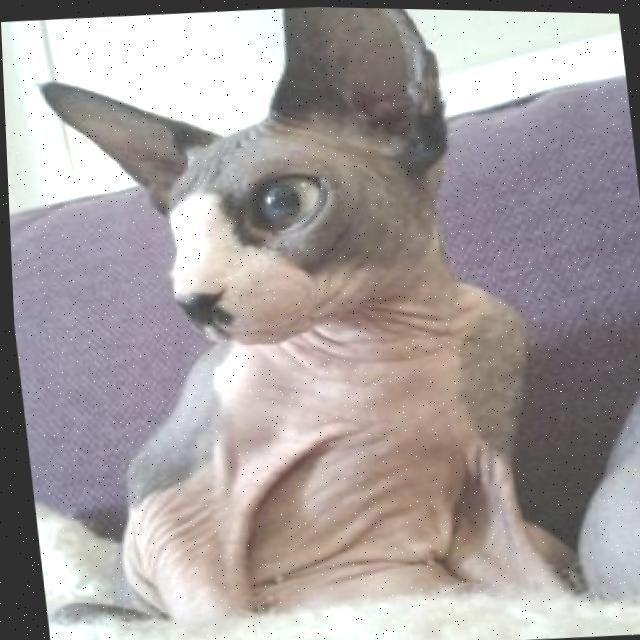Sphynx: (7, 0, 582, 640)
